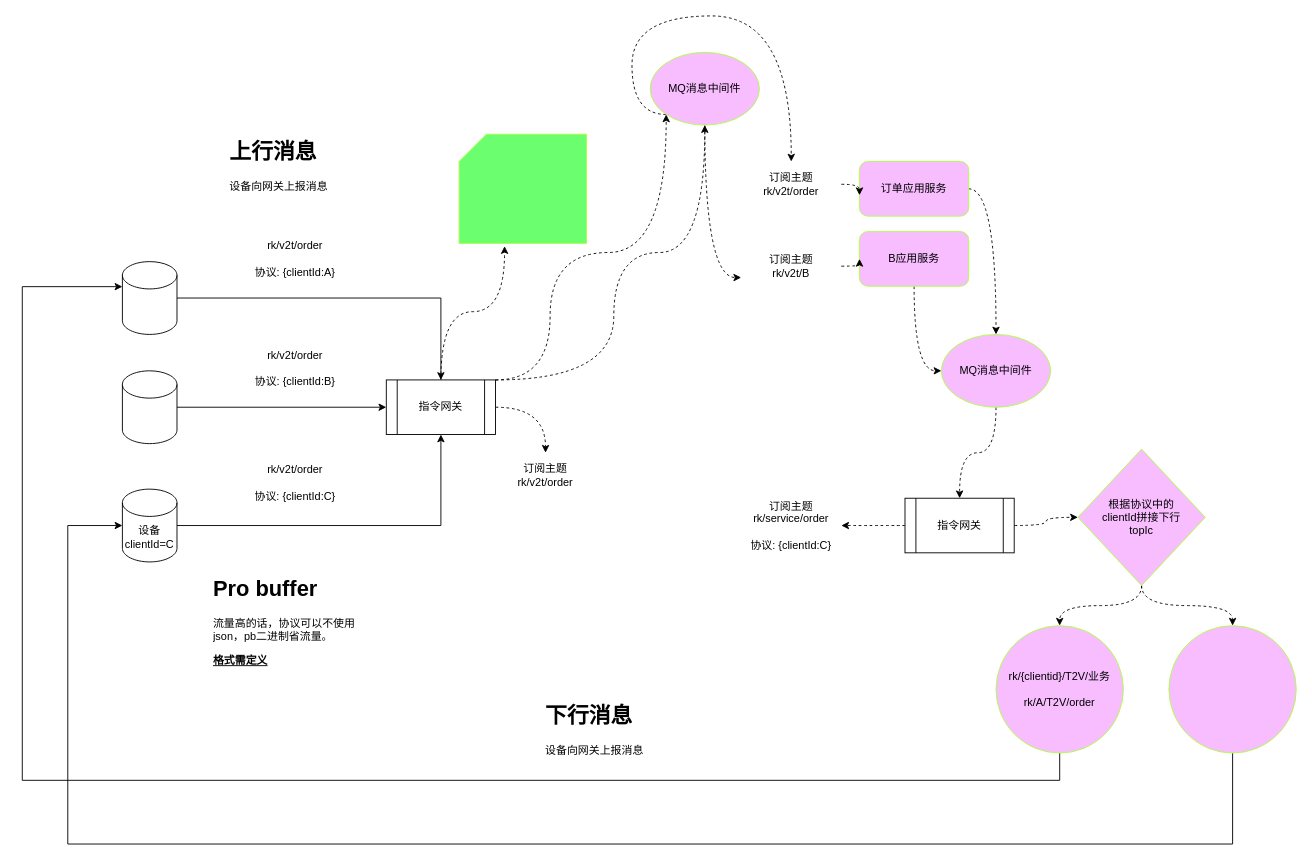
Image size: 1312x867. Some labels were removed from this diagram. The centre of each missing label's shape, as x and y in pixels:
"rk/{clientid}/T2V/业务 rk/C/T2V/product" belongs at point (1232, 689).
"设备 clientId=A" belongs at point (149, 297).
"设备 clientId=B" belongs at point (149, 407).
"配置中心 rk/v2t/order = 订单应用 rk/v2t/B = B应用" belongs at point (522, 188).
